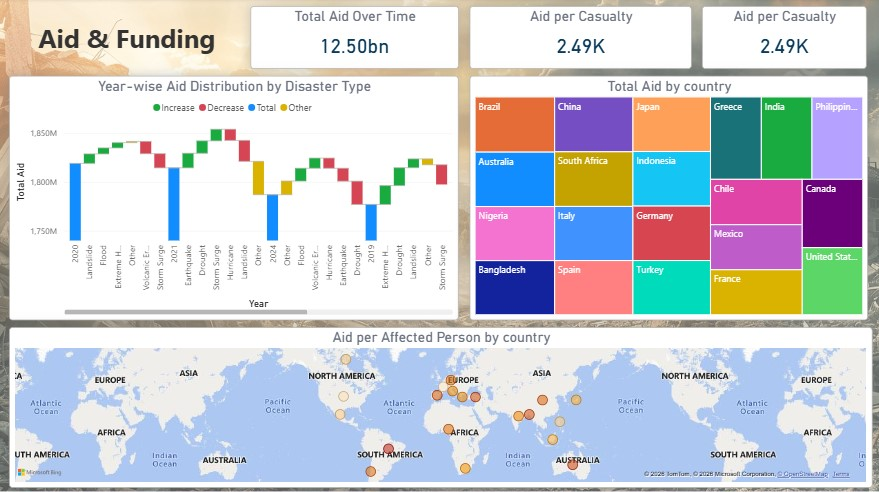

The page's visual inventory and layout, read from the dashboard file:
{"tool":"powerbi","page":{"name":"Aid & Funding","canvas":[1280,720],"ordinal":3},"visuals":[{"type":"card","title":"Total  Aid Over Time","fields":{"Values":["Disasters_Table.Total Aid Over Time"]},"box":[364.5,11.7,301.6,90.8],"z":0},{"type":"card","title":"Aid per Casualty","fields":{"Values":["Disasters_Table.Aid per Casualty"]},"box":[682.2,11.7,322.1,90.8],"z":1000},{"type":"card","title":"Aid per Casualty","fields":{"Values":["Disasters_Table.Aid per Casualty"]},"box":[1018.9,11.7,238.6,90.7],"z":2000},{"type":"waterfallChart","title":"Year-wise Aid Distribution by Disaster Type","fields":{"Category":["Disasters_Table.Year"],"Breakdown":["Disasters_Table.disaster_type"],"Y":["Disasters_Table.Total Aid"]},"box":[15.3,113,651.5,354.3],"z":3000},{"type":"treemap","fields":{"Group":["Disasters_Table.country"],"Values":["Disasters_Table.Total Aid"]},"box":[682.2,113,577.6,354.3],"z":4000},{"type":"map","fields":{"Category":["Disasters_Table.country"],"Size":["Disasters_Table.Aid per Affected Person"]},"box":[14,477.1,1251.4,233],"z":5000},{"type":"textbox","box":[35.1,26.4,300.1,61.5],"z":6000}]}

Visuals, with their boxes in screenshot pixels (x1, y1, x2, y2), scaled from the page's 1280x720 canvas onto the 879x492 screenshot:
"Total  Aid Over Time" card: bbox(250, 8, 457, 70)
"Aid per Casualty" card: bbox(468, 8, 690, 70)
"Aid per Casualty" card: bbox(700, 8, 864, 70)
"Year-wise Aid Distribution by Disaster Type" waterfallChart: bbox(11, 77, 458, 319)
treemap - Disasters_Table.country x Disasters_Table.Total Aid: bbox(468, 77, 865, 319)
map - Disasters_Table.country x Disasters_Table.Aid per Affected Person: bbox(10, 326, 869, 485)
textbox: bbox(24, 18, 230, 60)
